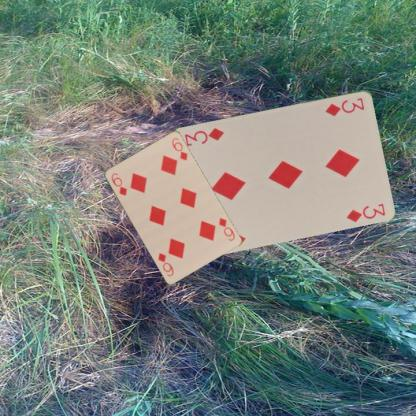3d: (323, 95, 366, 117)
6d: (216, 215, 236, 242), (108, 170, 127, 197)
